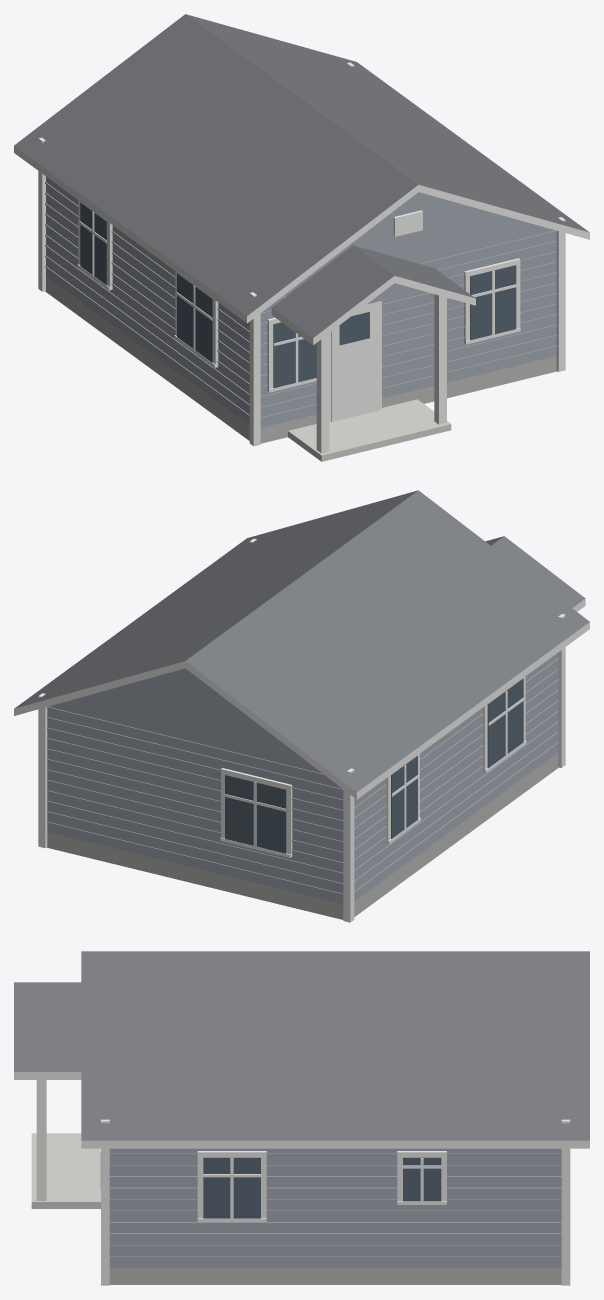
The model's file is cherry-cottage.glb.
The picture shows the model from 3 angles, top to bottom: view 1: azimuth 30°, elevation 25°; view 2: azimuth 150°, elevation 25°; view 3: azimuth 270°, elevation 25°; orthographic projection. The views are drawn at different scales.
Parts seen in each view (by area): view 1: The Cherry (cottage); view 2: The Cherry (cottage); view 3: The Cherry (cottage).
Part boxes in pixels (x1,y1,x2,y2): The Cherry (cottage): [14, 14, 589, 461]; The Cherry (cottage): [14, 490, 589, 922]; The Cherry (cottage): [14, 951, 589, 1285].
Size of the model in its own units: 6.86 by 4.42 by 9.15.
